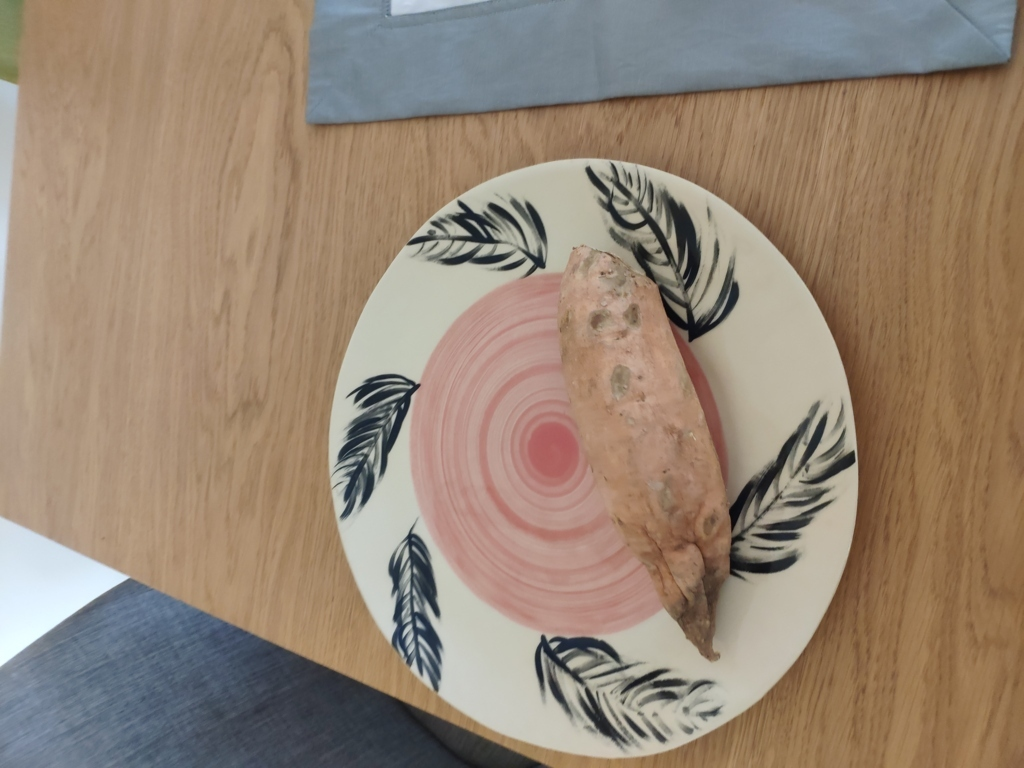Sweet Potato: (529, 257, 762, 623)
